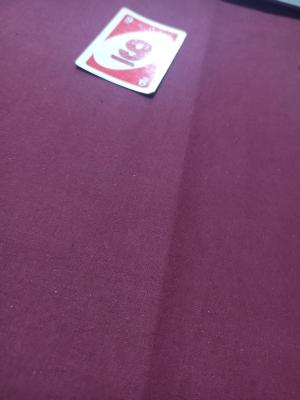num_9: (110, 32, 157, 69)
